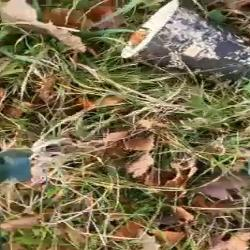Restaffald: (121, 0, 250, 82)
